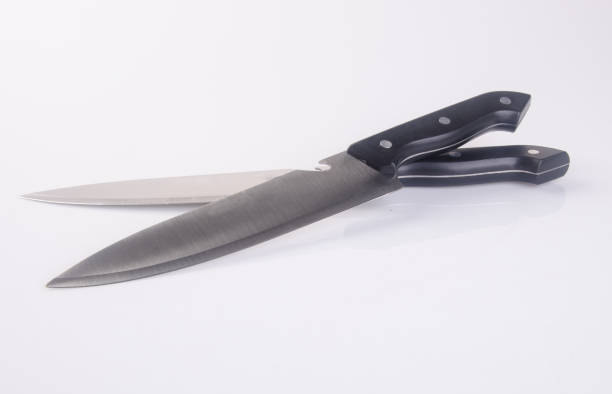knife: (43, 88, 534, 288), (17, 142, 572, 209)
